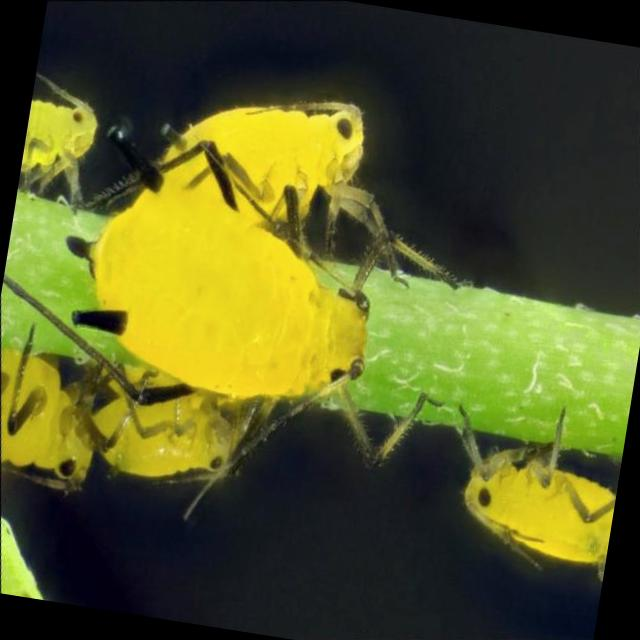aphid: (16, 118, 504, 494), (97, 47, 444, 290), (393, 369, 631, 614), (43, 336, 300, 548), (0, 332, 122, 525), (17, 68, 110, 198)
